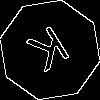K: (25, 25, 77, 81)
